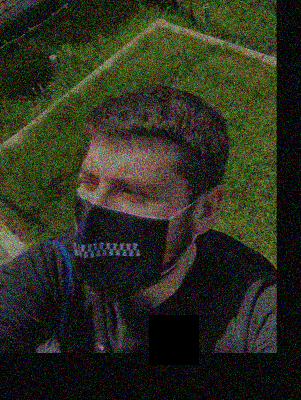with_mask: (71, 156, 175, 300)
